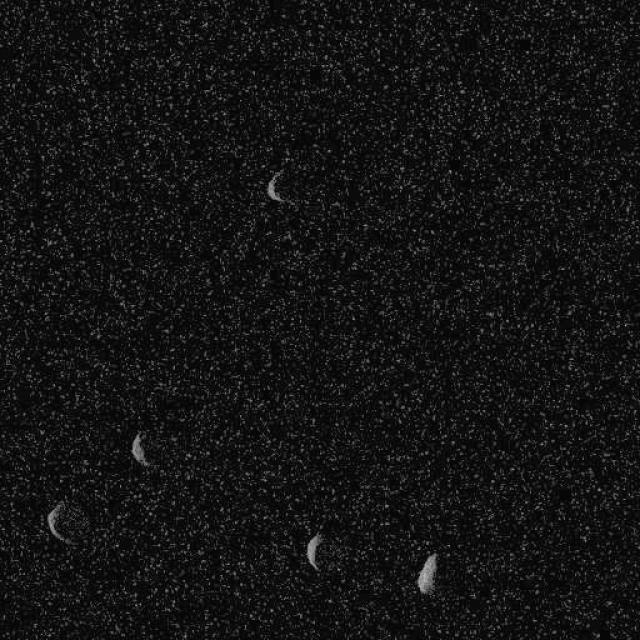D2: (45, 498, 90, 548), (415, 551, 437, 595), (129, 429, 150, 466), (265, 168, 286, 204), (305, 531, 323, 570)
